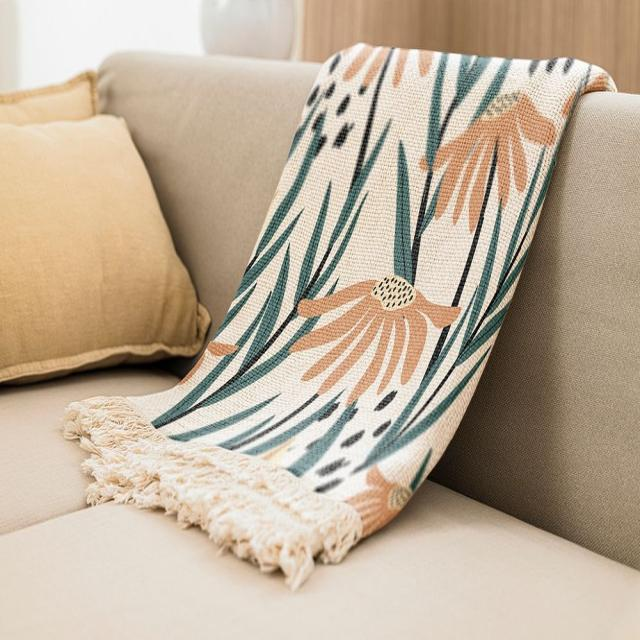blanket: (66, 46, 616, 588)
